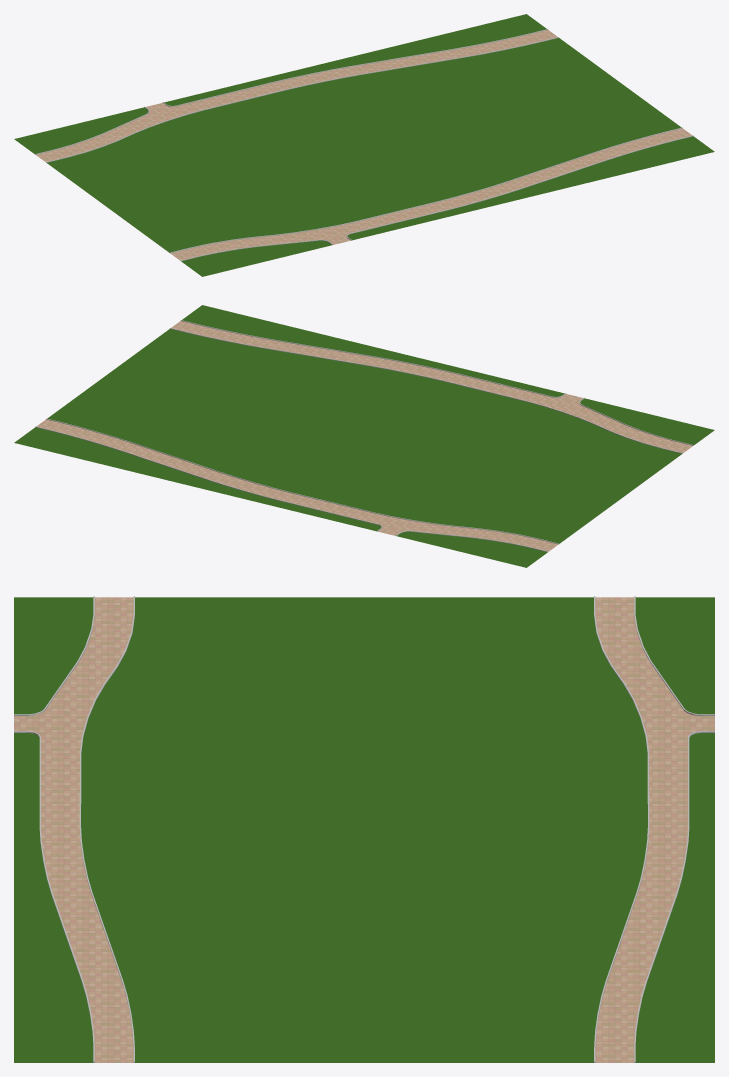
The model's file is RollerCoaster_Ground_01.fbx.
The picture shows the model from 3 angles, top to bottom: view 1: azimuth 30°, elevation 25°; view 2: azimuth 150°, elevation 25°; view 3: azimuth 270°, elevation 25°; orthographic projection. The views are drawn at different scales.
Parts seen in each view (by area): view 1: RollerCoaster_Ground_01; view 2: RollerCoaster_Ground_01; view 3: RollerCoaster_Ground_01.
Boxes of the visible parts, left/top/right/bottom form: RollerCoaster_Ground_01: left=14, top=14, right=714, bottom=276; RollerCoaster_Ground_01: left=14, top=305, right=714, bottom=567; RollerCoaster_Ground_01: left=14, top=596, right=714, bottom=1062.
Bounding box in the file's own units: 16500 × 10500 × 20.
